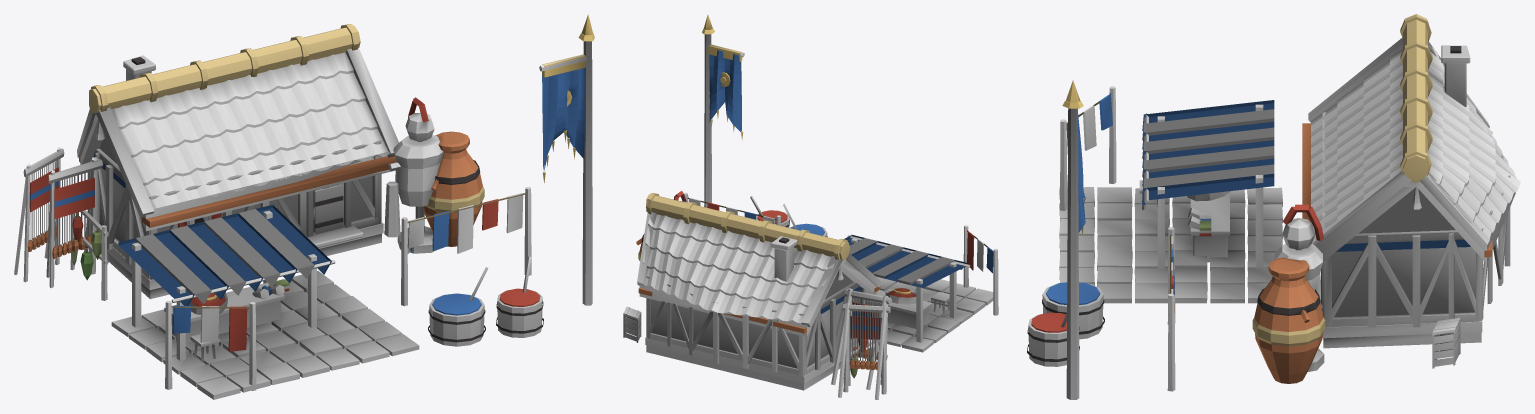
File: menders-hut-l2.glb
3 views of the same model, side by side, from view 1: azimuth 30°, elevation 25°; view 2: azimuth 150°, elevation 25°; view 3: azimuth 270°, elevation 25° (orthographic). The views are drawn at different scales.
Parts seen in each view (by area): view 1: menders-hut-l2; view 2: menders-hut-l2; view 3: menders-hut-l2.
Boxes of the visible parts, x1,y1,x2,y2 form: menders-hut-l2: (14,14,594,399); menders-hut-l2: (623,14,998,399); menders-hut-l2: (1027,14,1520,399).
Bounding box in the file's own units: 1.34 × 0.9076 × 1.27.
